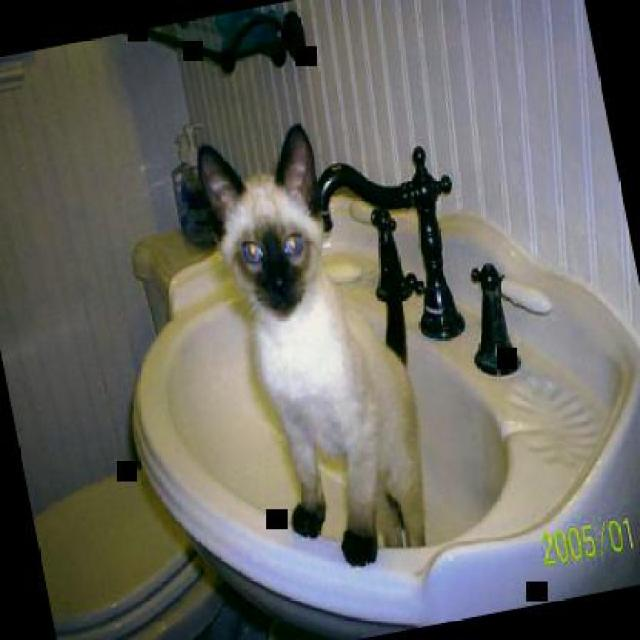cat: (192, 110, 442, 582)
